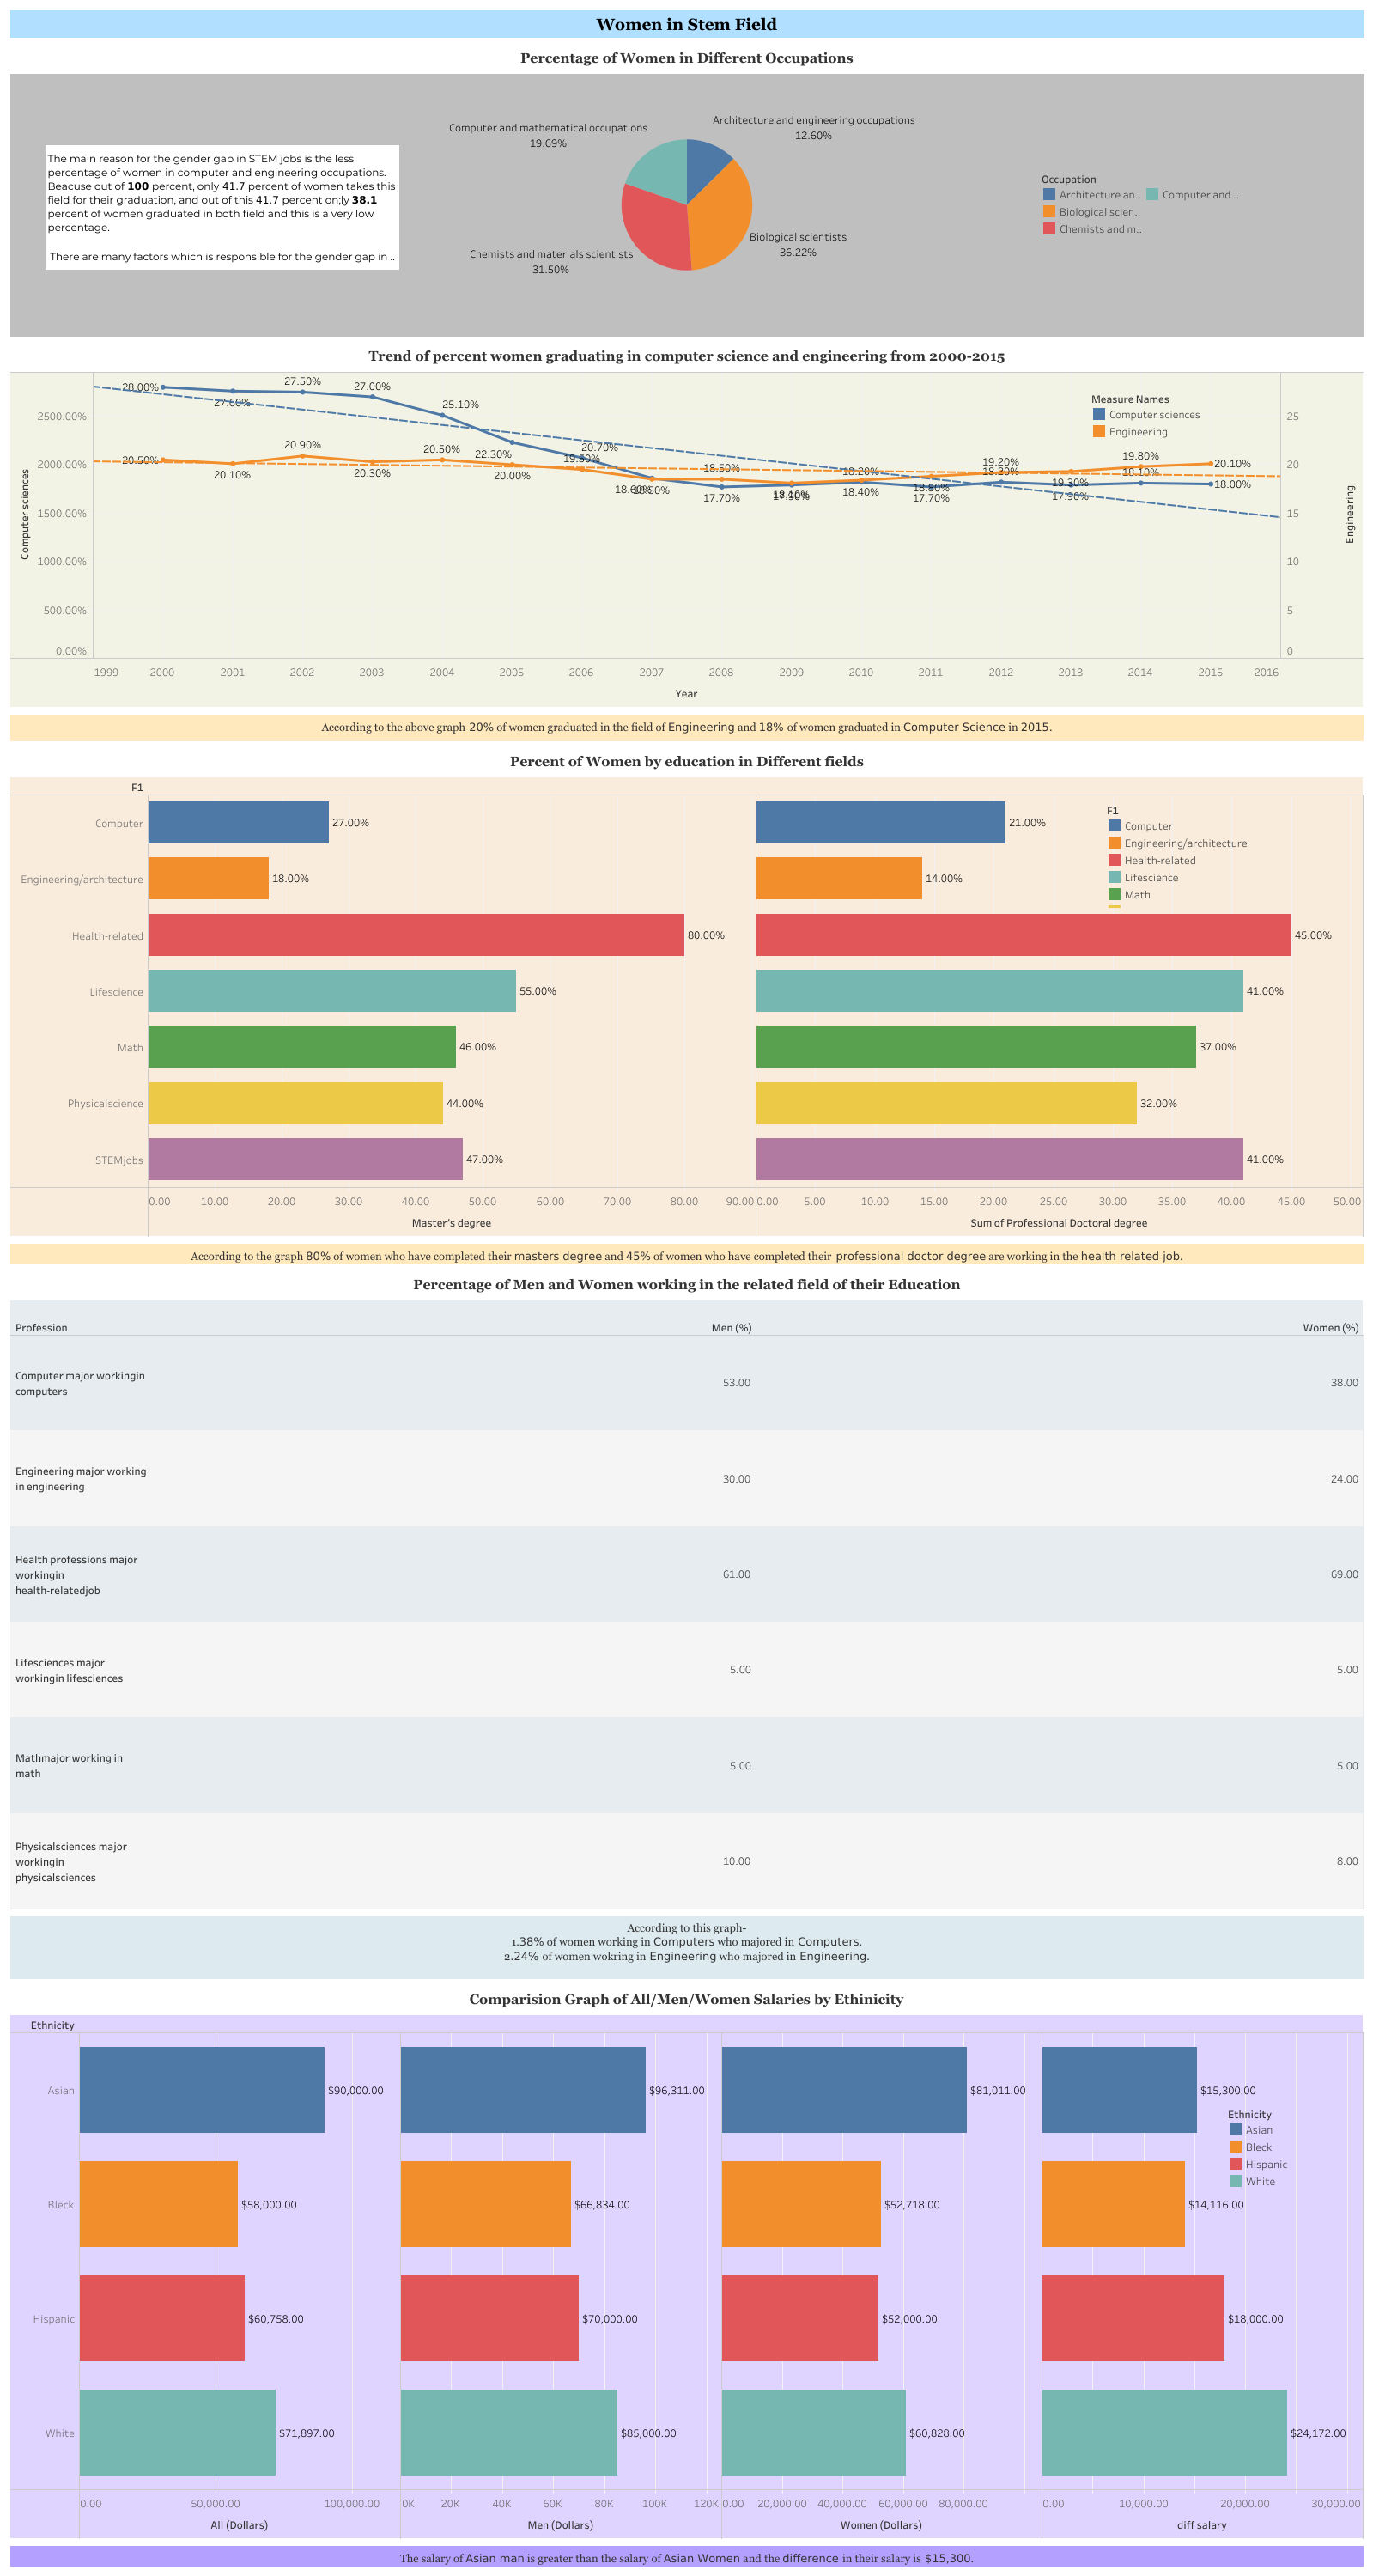

This screenshot's page, from the dashboard's own definition file:
{"tool":"tableau","page":{"name":"Dashboard 2","canvas":[1600,3000],"ordinal":0},"visuals":[{"type":"text","box":[8,8,1584,40]},{"type":"worksheet","title":"Percentage of Women in Different Occupations","mark":"Pie","box":[8,48,1584,347]},{"type":"text","box":[53,169,412,145]},{"type":"legend","title":"Percentage of Women in Different Occupations","param":"[federated.05btyki18q2gfe1f05rzy04vtf61].[none:Occupation:nk]","box":[1212,197,262,98]},{"type":"worksheet","title":"Trend of percent women graduating in computer science and engineering from 2000-2015","mark":"Line","rows":["Computer sciences","Engineering"],"cols":["Year"],"box":[8,395,1584,433]},{"type":"legend","title":"Trend of percent women graduating in computer science and engineering from 2000-2015","param":"[federated.0htvnpu1gq6h341g7fduk0ol2el1].[:Measure Names]","box":[1270,453,140,58]},{"type":"worksheet","title":"Sheet 7","mark":"Automatic","box":[8,828,1584,39]},{"type":"worksheet","title":"Percent of Women by education in Different fields","mark":"Automatic","rows":["F1"],"cols":["Master's degree","Professional Doctoral degree"],"box":[8,867,1584,577]},{"type":"legend","title":"Percent of Women by education in Different fields","param":"[federated.0vxue1b1gu8j8b1ck7an10w39qwo].[none:F1:nk]","box":[1288,932,169,125]},{"type":"worksheet","title":"Sheet 8","mark":"Automatic","box":[8,1444,1584,32]},{"type":"worksheet","title":"Percentage of Men and Women working in the related field of their Education","mark":"Automatic","rows":["Profession"],"box":[8,1476.1,1584,751]},{"type":"worksheet","title":"Sheet 9","mark":"Automatic","box":[8,2227.1,1584,80.9]},{"type":"worksheet","title":"Comparision Graph of All/Men/Women Salaries by Ethinicity","mark":"Automatic","rows":["Ethnicity"],"cols":["All (Dollars)","Men (Dollars)","Women (Dollars)","vtsum"],"box":[8,2308,1584,652]},{"type":"legend","title":"Comparision Graph of All/Men/Women Salaries by Ethinicity","param":"[federated.1libwgt0naziqs1c4o7sv11ir23w].[none:Ethnicity:nk]","box":[1429,2450,140,98]},{"type":"worksheet","title":"Sheet 10","mark":"Automatic","box":[8,2960,1584,32]}]}

Visuals, with their boxes in screenshot pixels (x1, y1, x2, y2), scaled from the page's 1600x3000 canvas onto the 1373x2576 screenshot:
text: <region>7, 7, 1366, 41</region>
"Percentage of Women in Different Occupations" worksheet (Pie marks): <region>7, 41, 1366, 339</region>
text: <region>46, 145, 399, 270</region>
"Percentage of Women in Different Occupations" legend: <region>1040, 169, 1265, 253</region>
"Trend of percent women graduating in computer science and engineering from 2000-2015" worksheet (Line marks): <region>7, 339, 1366, 711</region>
"Trend of percent women graduating in computer science and engineering from 2000-2015" legend: <region>1090, 389, 1210, 439</region>
"Sheet 7" worksheet: <region>7, 711, 1366, 745</region>
"Percent of Women by education in Different fields" worksheet: <region>7, 745, 1366, 1240</region>
"Percent of Women by education in Different fields" legend: <region>1105, 801, 1250, 908</region>
"Sheet 8" worksheet: <region>7, 1240, 1366, 1268</region>
"Percentage of Men and Women working in the related field of their Education" worksheet: <region>7, 1268, 1366, 1912</region>
"Sheet 9" worksheet: <region>7, 1912, 1366, 1982</region>
"Comparision Graph of All/Men/Women Salaries by Ethinicity" worksheet: <region>7, 1982, 1366, 2542</region>
"Comparision Graph of All/Men/Women Salaries by Ethinicity" legend: <region>1226, 2104, 1346, 2188</region>
"Sheet 10" worksheet: <region>7, 2542, 1366, 2569</region>
